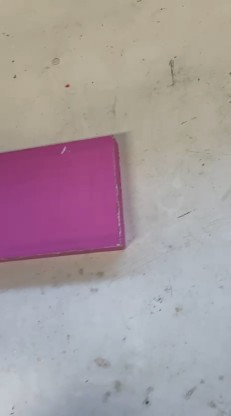pink: (0, 134, 139, 280)
